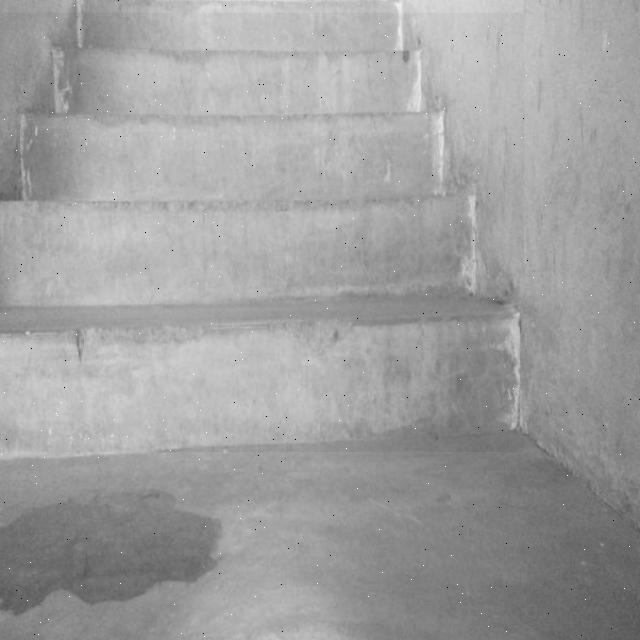stair: (0, 13, 524, 452)
